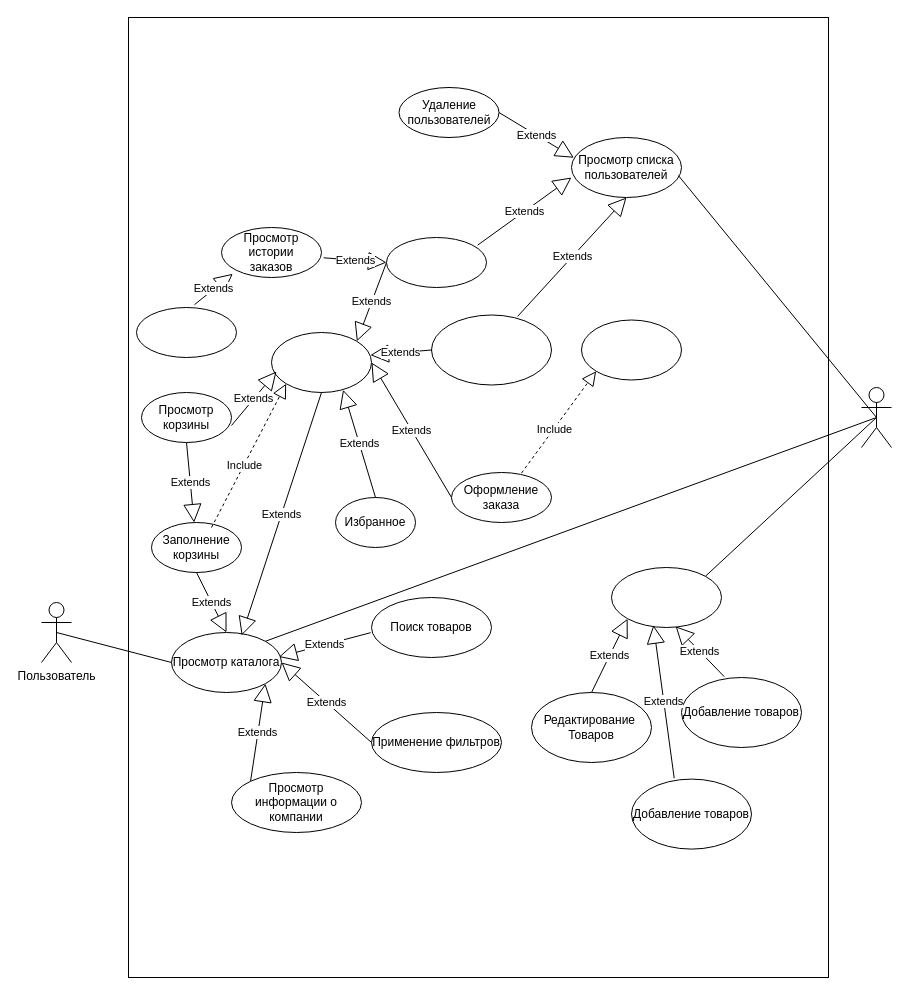
This 912x1003 diagram has some shape labels left out. The shapes that lost their labels are listed below. From the top down, each one's box as (x1, y1, x2, y2) in pixels, then its label:
(386, 236, 486, 288): Просмотр профиля
(136, 306, 236, 358): Просмотр подробностей заказов
(430, 314, 552, 385): Редактирование данных пользователя
(580, 319, 682, 380): Заполнение формы заказа
(270, 332, 372, 392): Авторизация
(860, 386, 892, 448): Админ
(610, 566, 722, 628): Редактирование каталога
